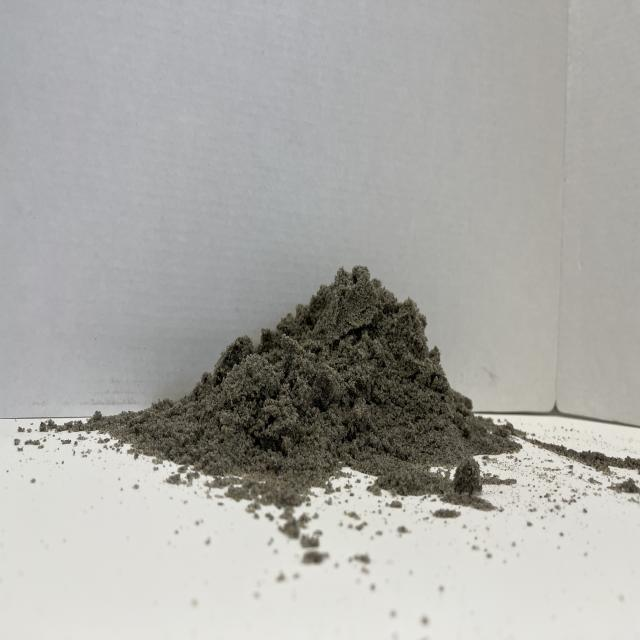sand: (97, 258, 547, 518)
